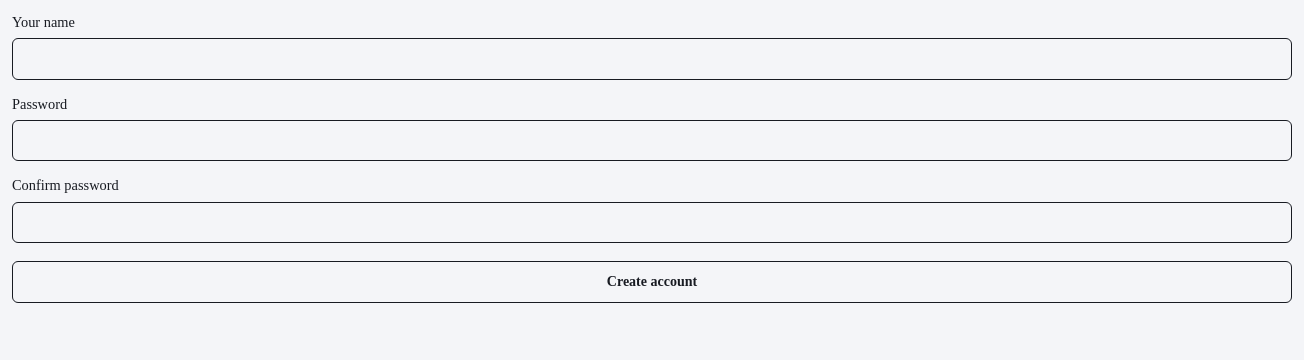
Scenario: RedeemForm refuses to submit when the passwords differ
Type "Jill" into the field labelled "Your name" at (652, 59), box [12,38,1292,80]
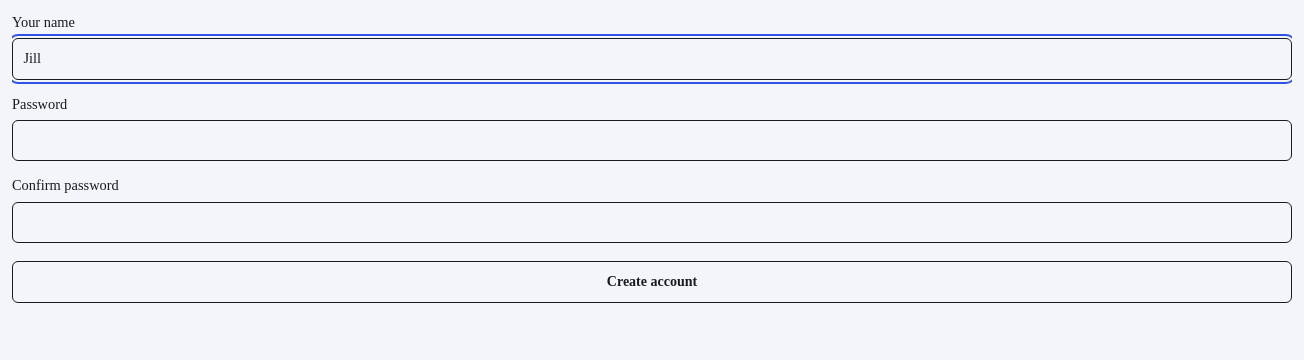
Type "valentine123" into the password field labelled "Password" at (652, 141), box [12,120,1292,161]
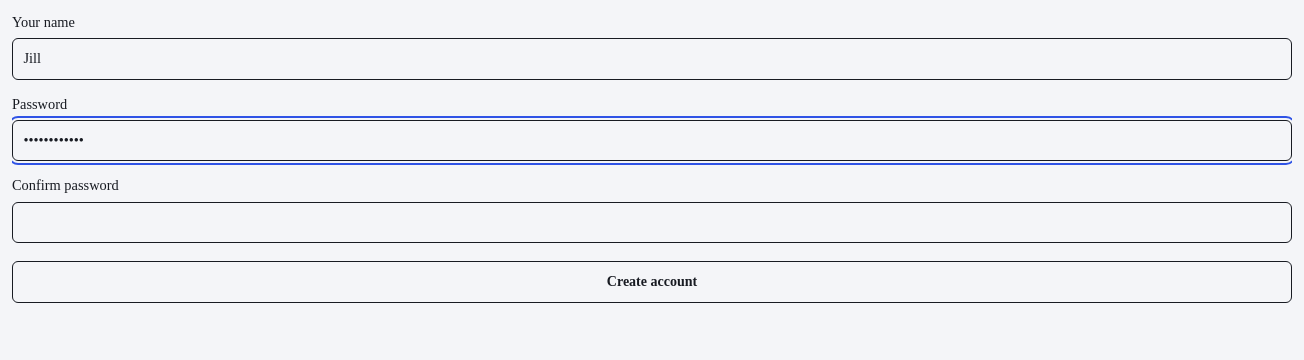
Type "nemesis00000" into the password field labelled "Confirm password" at (652, 222), box [12,202,1292,243]
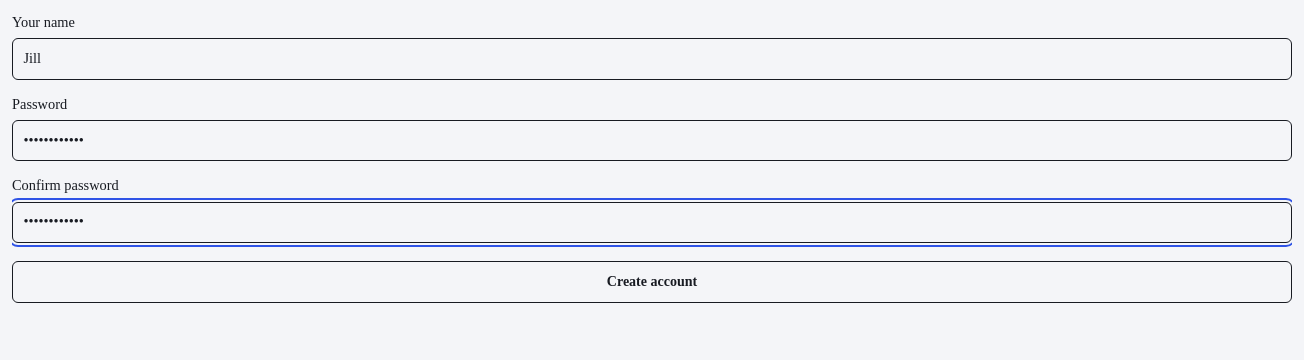
Click the button at (652, 282), box [12,261,1292,303]
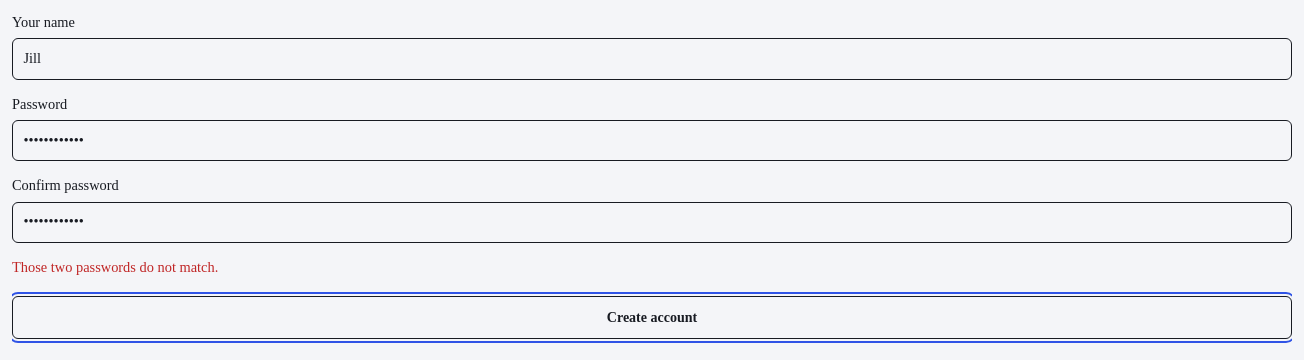
Expected: the message shows "match", [12,259,218,275]
